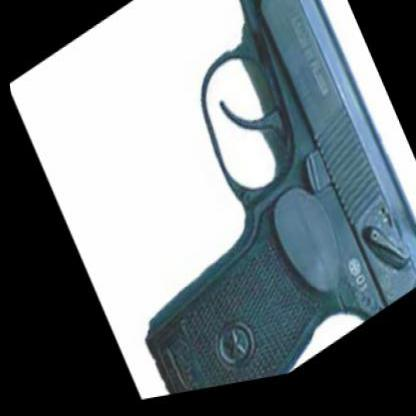pistol: (18, 0, 415, 412)
